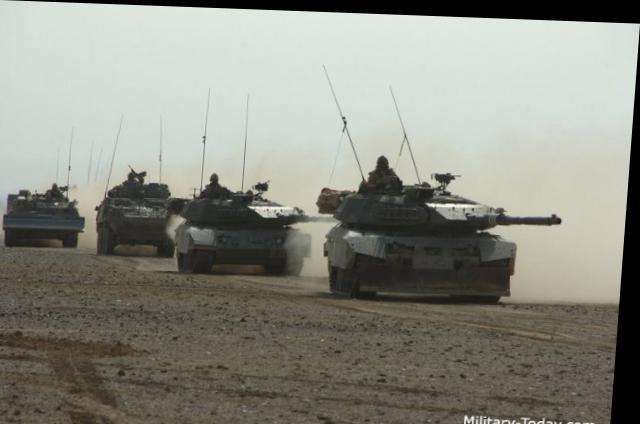tank: (316, 141, 525, 308)
